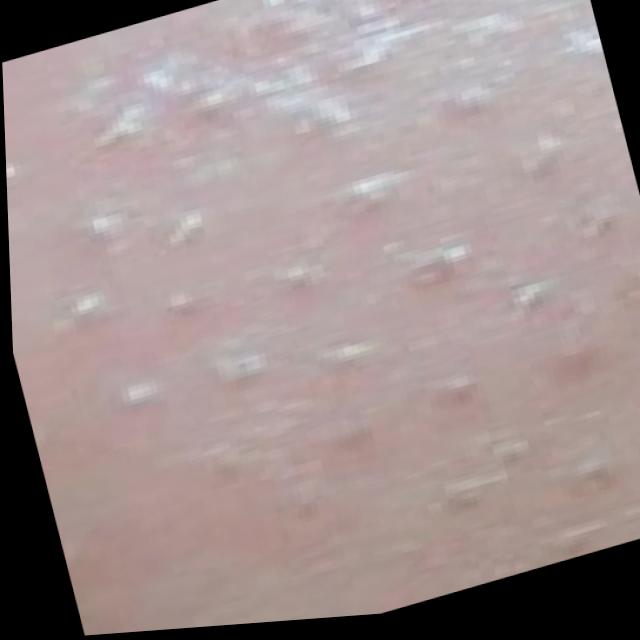whitehead: (3, 0, 640, 621)
